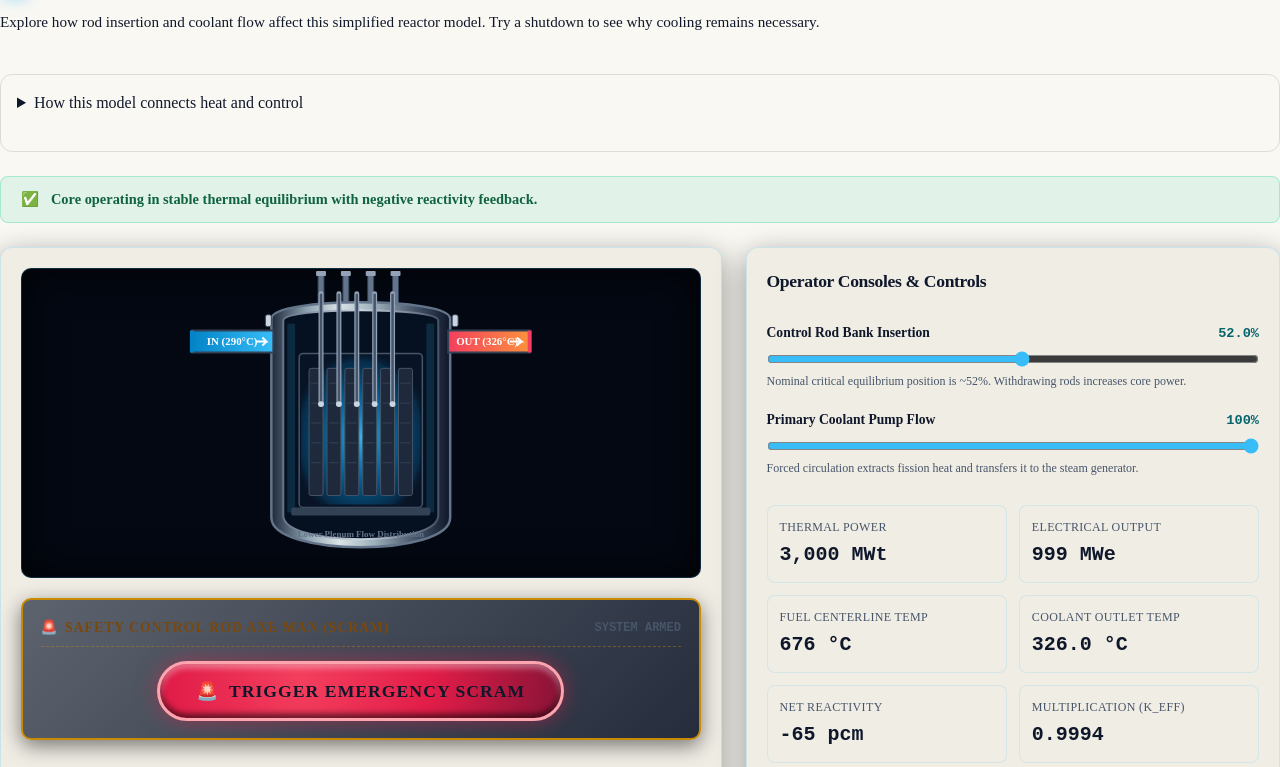
Scenario: ReactorControlSimulator › resets reactor on cold restart button click
Click the button "🚨 TRIGGER EMERGENCY SCRAM" at (361, 691), box [157,661,564,721]
(page scrolled)
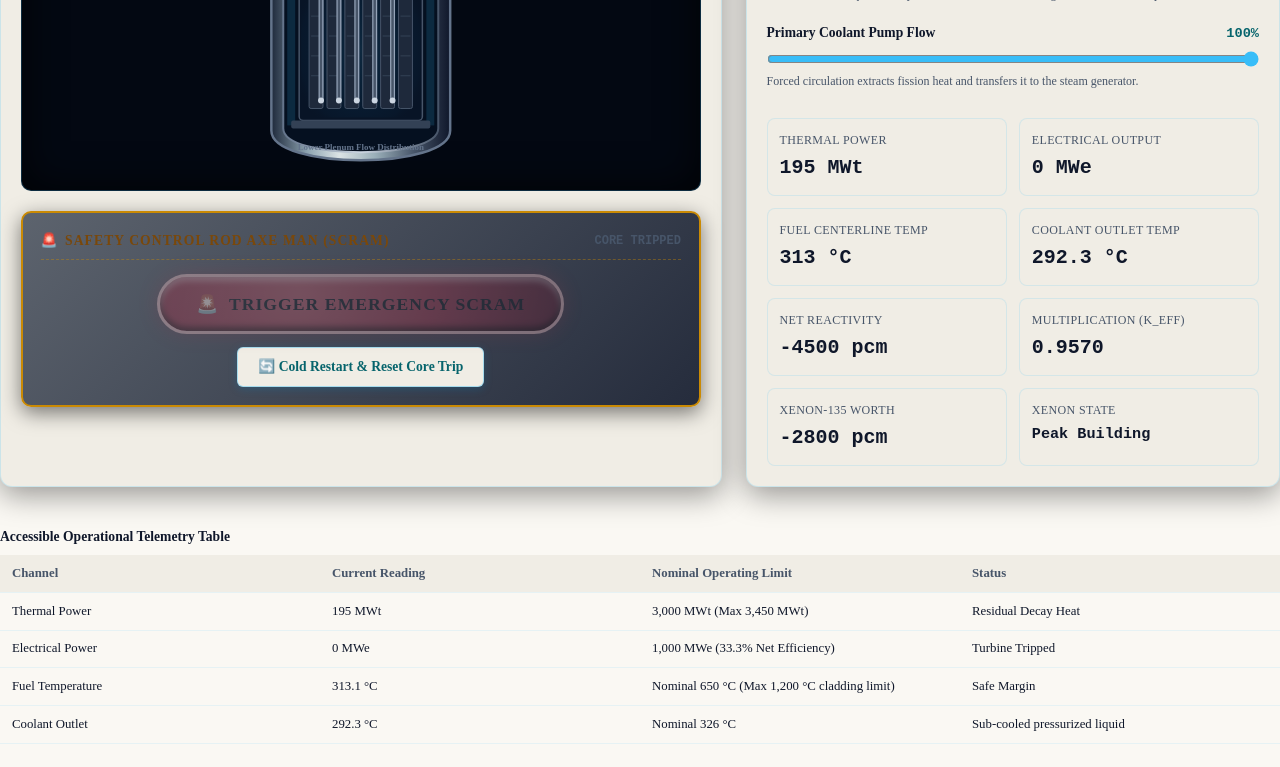
Click the button "🔄 Cold Restart & Reset Core Trip" at (361, 367), box [237,347,484,387]
(page scrolled)
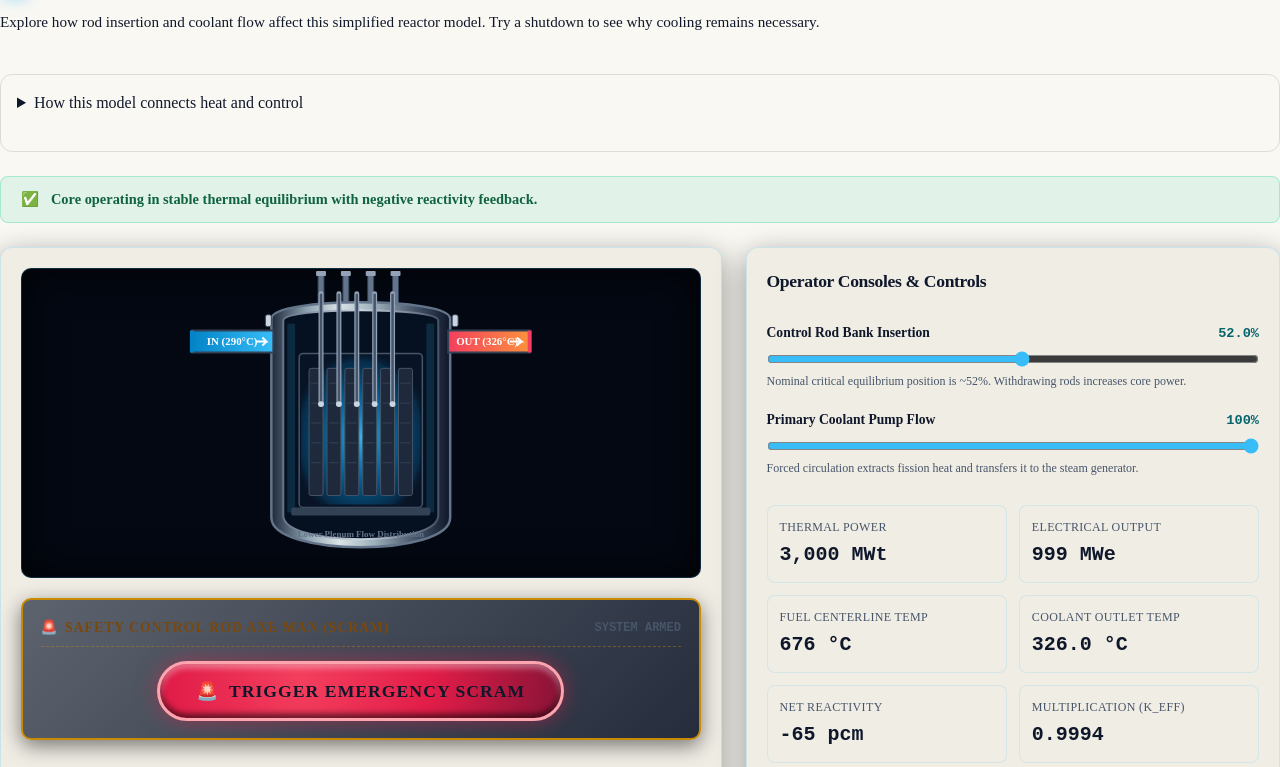
Expected: the button "🚨 TRIGGER EMERGENCY SCRAM" is enabled, [157,661,564,721]
Expected: the text "52.0%" is shown, [1218,324,1259,344]
